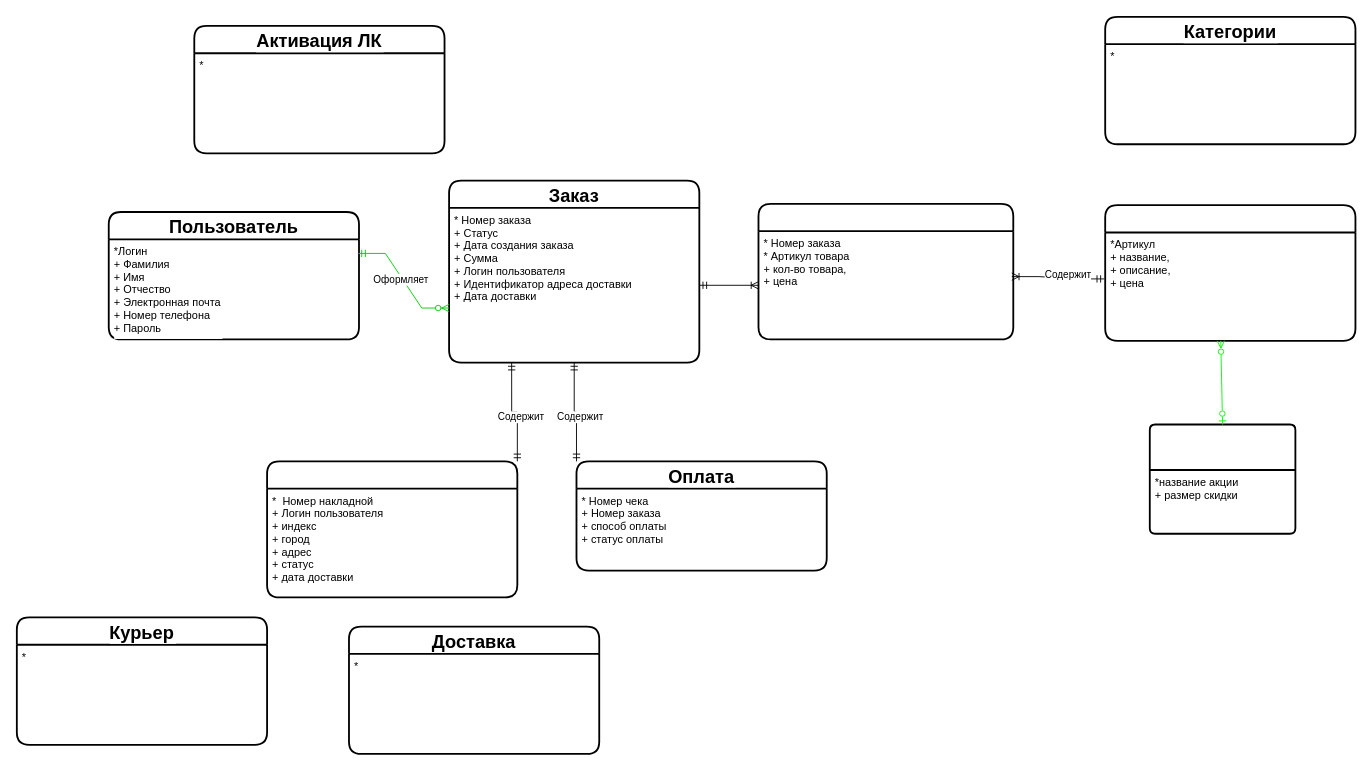
This 1371x770 diagram has some shape labels left out. The shapes that lost their labels are listed below. From the top down, each one's box as (x1, y1, x2, y2) in pixels, then its label:
(757, 202, 1014, 340): Товар в заказе
(1104, 204, 1356, 341): Товар
(1148, 423, 1296, 534): Акция
(266, 460, 518, 598): Адрес доставки
